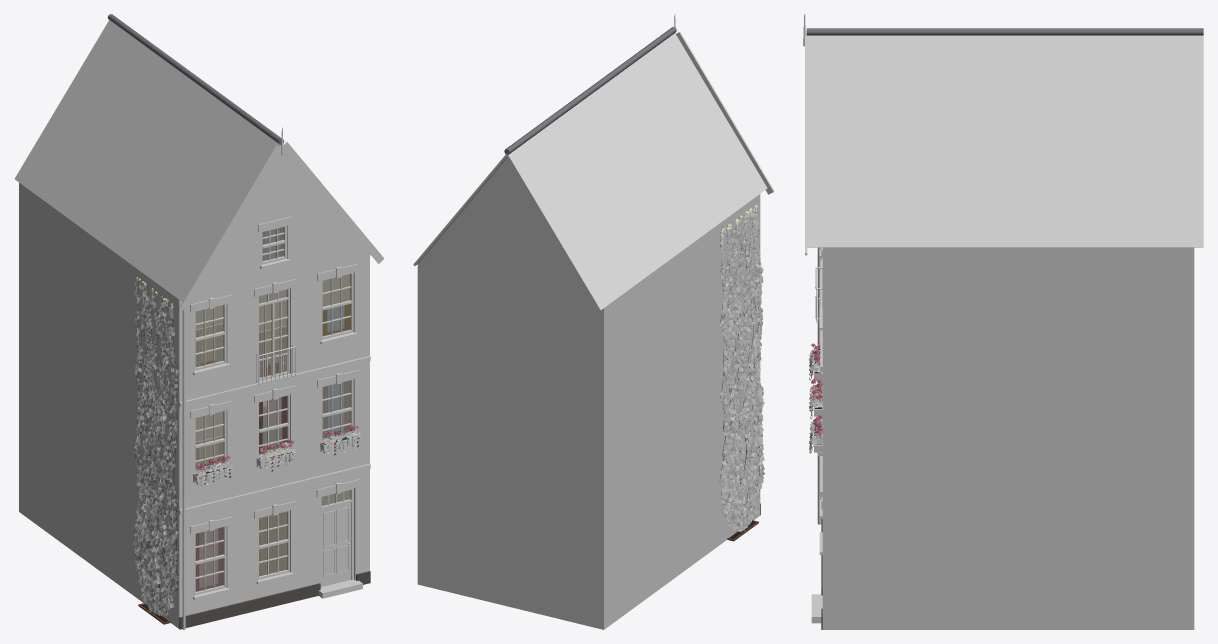
Rendered from GateStreet_Bend1.glb.
3 renders of one model, left to right at view 1: azimuth 30°, elevation 25°; view 2: azimuth 150°, elevation 25°; view 3: azimuth 270°, elevation 25°, orthographic. The views are drawn at different scales.
Parts seen in each view (by area): view 1: GateStreet_Bend1; view 2: GateStreet_Bend1; view 3: GateStreet_Bend1.
Part boxes in pixels (<box>): GateStreet_Bend1: <box>14,14,384,629</box>; GateStreet_Bend1: <box>413,14,774,629</box>; GateStreet_Bend1: <box>803,14,1203,629</box>.
Size of what is drawn, in the model's own units: 5.95 by 13.34 by 8.62.
